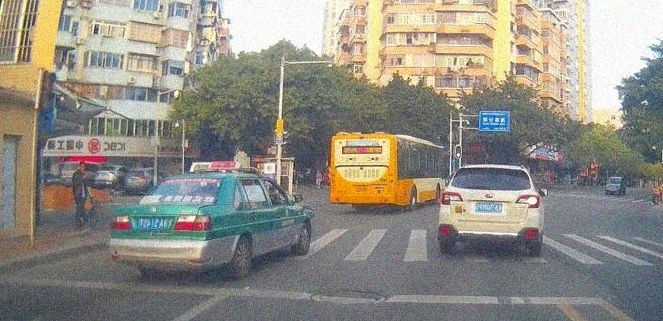L_light: (440, 191, 464, 206), (109, 214, 131, 230), (329, 171, 335, 185)
R_light: (173, 215, 210, 232), (514, 194, 540, 208), (388, 172, 395, 185)
T_light: (355, 147, 368, 152), (487, 168, 499, 172), (188, 178, 198, 182)
day-no: (109, 173, 227, 281), (439, 164, 543, 258), (329, 132, 396, 214)
